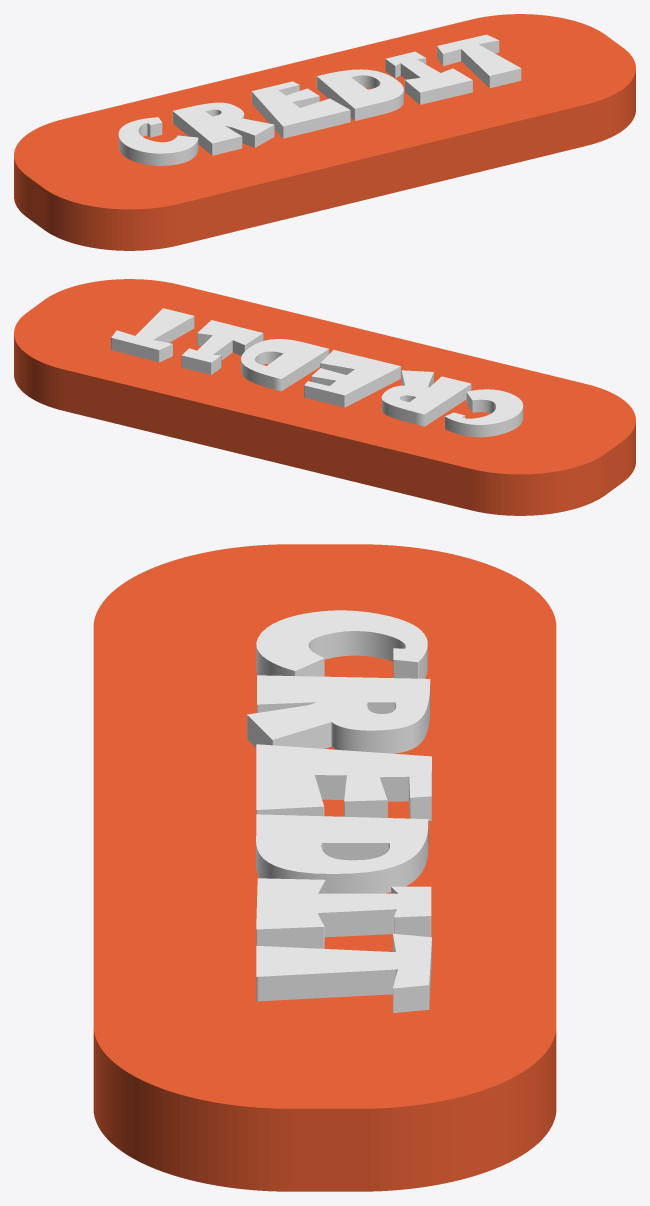
File: credit.fbx
3 renders of one model, top to bottom at view 1: azimuth 30°, elevation 25°; view 2: azimuth 150°, elevation 25°; view 3: azimuth 270°, elevation 25°, orthographic. The views are drawn at different scales.
Visible parts, largest first — view 1: Cube.001, credit; view 2: Cube.001, credit; view 3: Cube.001, credit.
Part boxes in pixels (left/top/right/bottom): Cube.001: left=14, top=14, right=635, bottom=250; credit: left=118, top=34, right=521, bottom=165; Cube.001: left=14, top=279, right=635, bottom=515; credit: left=111, top=308, right=523, bottom=437; Cube.001: left=93, top=544, right=556, bottom=1191; credit: left=247, top=610, right=431, bottom=1012.
Bounding box in the file's own units: 831 × 73.81 × 288.
